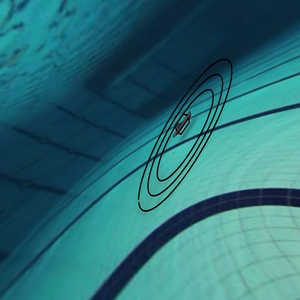circle: (132, 53, 248, 220)
submarine: (165, 103, 198, 141)
